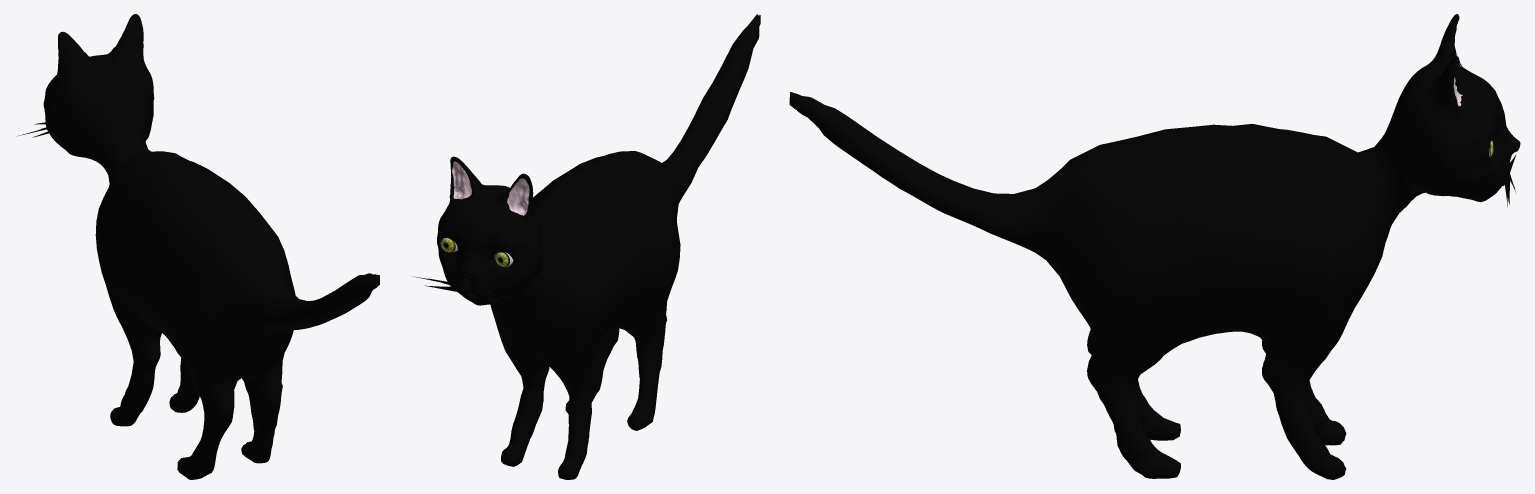
File: PetRaceModel2.fbx
The picture shows the model from 3 angles, left to right: view 1: azimuth 30°, elevation 25°; view 2: azimuth 150°, elevation 25°; view 3: azimuth 270°, elevation 25°; orthographic projection. The views are drawn at different scales.
Visible parts, largest first — view 1: Black Cat; view 2: Black Cat, Eyes.003; view 3: Black Cat.
Part boxes in pixels (<box>): Black Cat: <box>17,14,379,479</box>; Black Cat: <box>412,14,760,479</box>; Eyes.003: <box>440,238,513,267</box>; Black Cat: <box>789,14,1520,479</box>.
Size of the model in its own units: 225 by 606 by 946.
